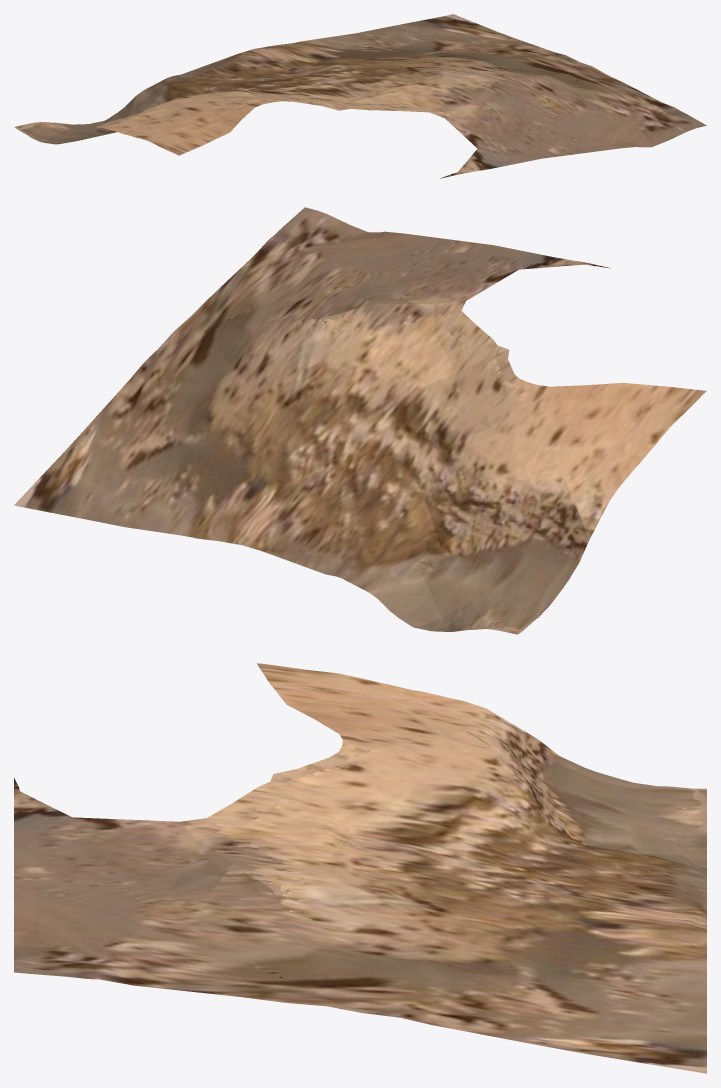
3 views of the same model, one above another, from view 1: azimuth 30°, elevation 25°; view 2: azimuth 150°, elevation 25°; view 3: azimuth 270°, elevation 25° (orthographic). The views are drawn at different scales.
Bounding box in the file's own units: 1.04 × 0.2448 × 1.04.
2 materials, 2 textured.
